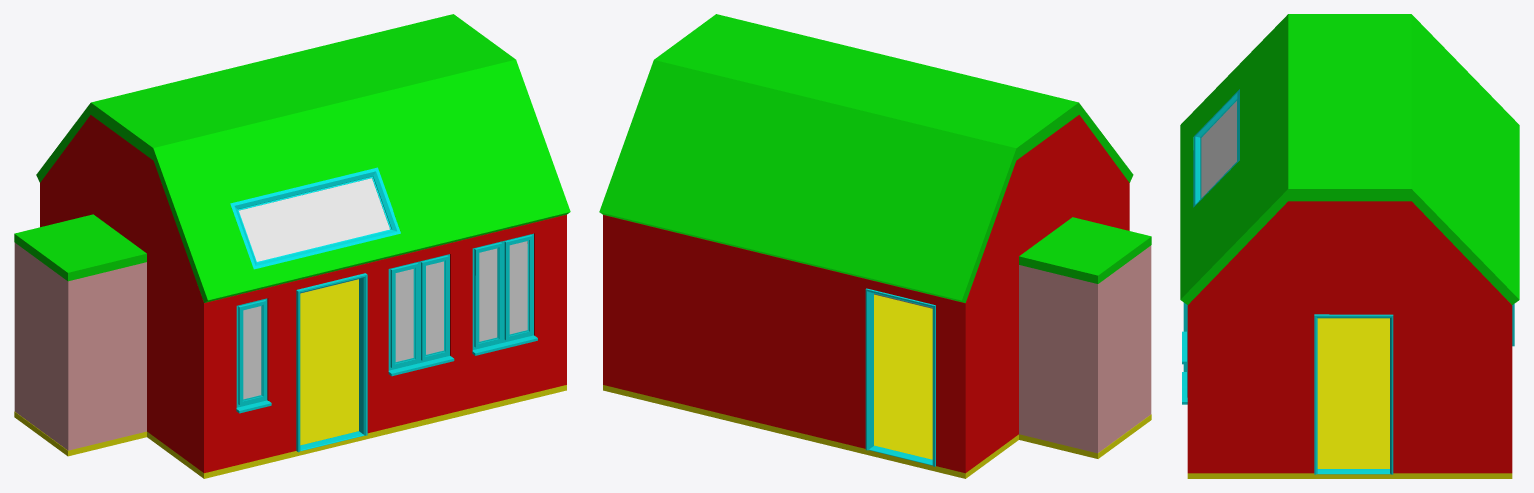
File: FloorPlan514_physics.fbx
3 renders of one model, left to right at view 1: azimuth 30°, elevation 25°; view 2: azimuth 150°, elevation 25°; view 3: azimuth 270°, elevation 25°, orthographic.
Parts seen in each view (by area): view 1: FP514:Ceiling_1, FP514:Walls_1, FP514:Walls_2, FP514:Floor_1, FP514:WindowPane_4, FP514:Ceiling_2, FP514:WindowPane_1 (×2), FP514:WindowFrame_3, FP514:WindowFrame_2, FP514:WindowFrame_4, FP514:WindowPane_2, FP514:DoorFrame_1 (+2 smaller); view 2: FP514:Ceiling_1, FP514:Walls_1, FP514:Walls_2, FP514:Floor_1, FP514:Ceiling_2, FP514:DoorFrame_3, FP514:Floor_2; view 3: FP514:Walls_1, FP514:Ceiling_1, FP514:Floor_1, FP514:WindowPane_4, FP514:DoorFrame_2, FP514:WindowFrame_4, FP514:Floorboard_2.
Boxes of the visible parts, x1,y1,x2,y2 form: FP514:Ceiling_1: [36, 14, 570, 302]; FP514:Walls_1: [40, 115, 566, 473]; FP514:Walls_2: [14, 243, 146, 450]; FP514:Floor_1: [147, 279, 566, 478]; FP514:WindowPane_4: [239, 178, 389, 261]; FP514:Ceiling_2: [14, 214, 146, 281]; FP514:WindowPane_1 (×2): [243, 241, 527, 399]; FP514:WindowFrame_3: [472, 233, 537, 355]; FP514:WindowFrame_2: [388, 254, 454, 376]; FP514:WindowFrame_4: [230, 167, 400, 269]; FP514:WindowPane_2: [395, 261, 443, 361]; FP514:DoorFrame_1: [296, 273, 367, 452]; FP514:Ceiling_1: [599, 14, 1133, 302]; FP514:Walls_1: [603, 115, 1129, 473]; FP514:Walls_2: [1019, 245, 1151, 453]; FP514:Floor_1: [603, 294, 1018, 478]; FP514:Ceiling_2: [1019, 217, 1151, 283]; FP514:DoorFrame_3: [865, 288, 935, 466]; FP514:Floor_2: [1019, 414, 1151, 458]; FP514:Walls_1: [1187, 201, 1512, 473]; FP514:Ceiling_1: [1180, 14, 1519, 304]; FP514:Floor_1: [1187, 318, 1512, 478]; FP514:WindowPane_4: [1201, 101, 1236, 197]; FP514:DoorFrame_2: [1314, 314, 1393, 474]; FP514:WindowFrame_4: [1193, 89, 1239, 207]; FP514:Floorboard_2: [1317, 469, 1390, 474].
Size of the model in its own units: 596 by 376 by 399.
